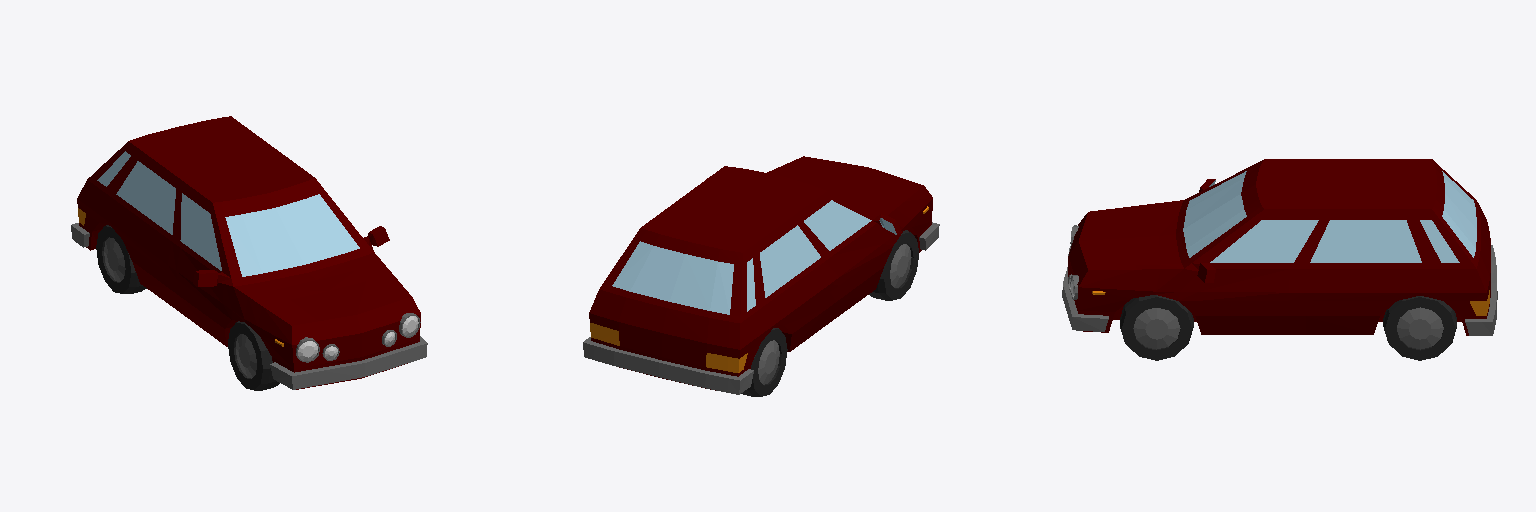
3 views of the same model, side by side, from view 1: azimuth 30°, elevation 25°; view 2: azimuth 150°, elevation 25°; view 3: azimuth 270°, elevation 25° (orthographic).
Bounding box in the file's own units: 45.5 × 32.33 × 89.11.
1 materials, 1 textured.